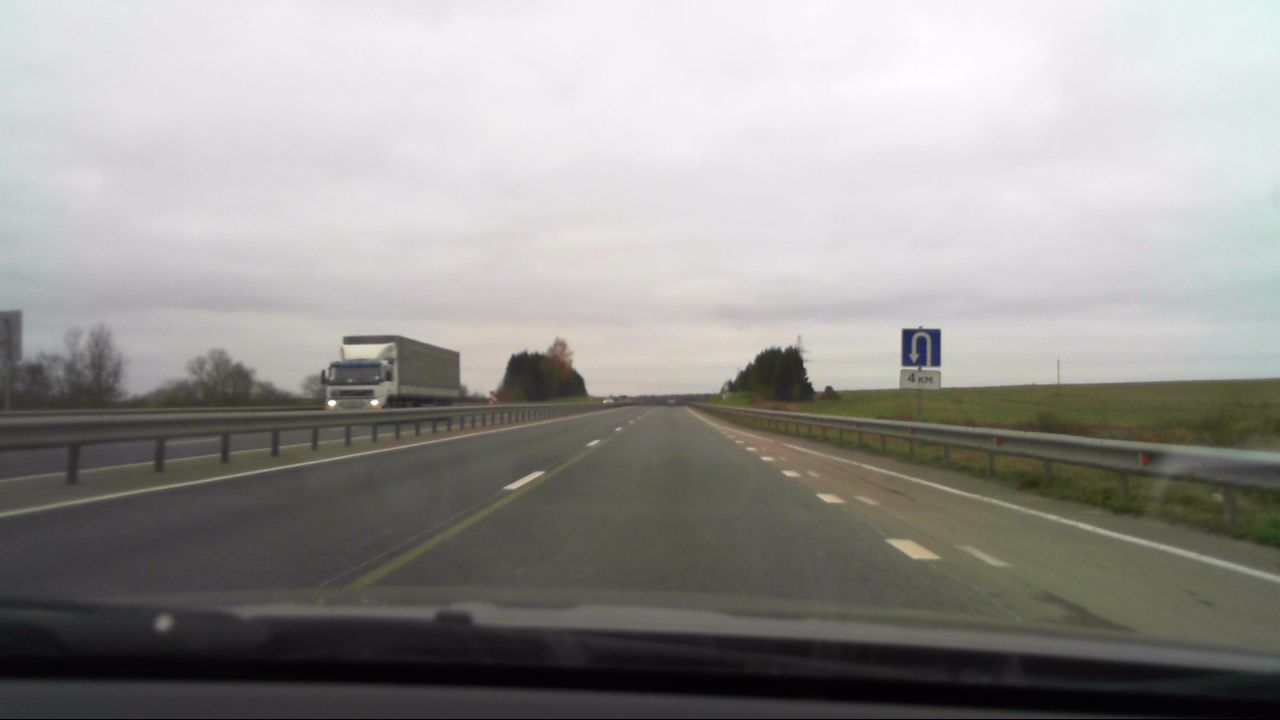U-turn: (901, 329, 941, 366)
